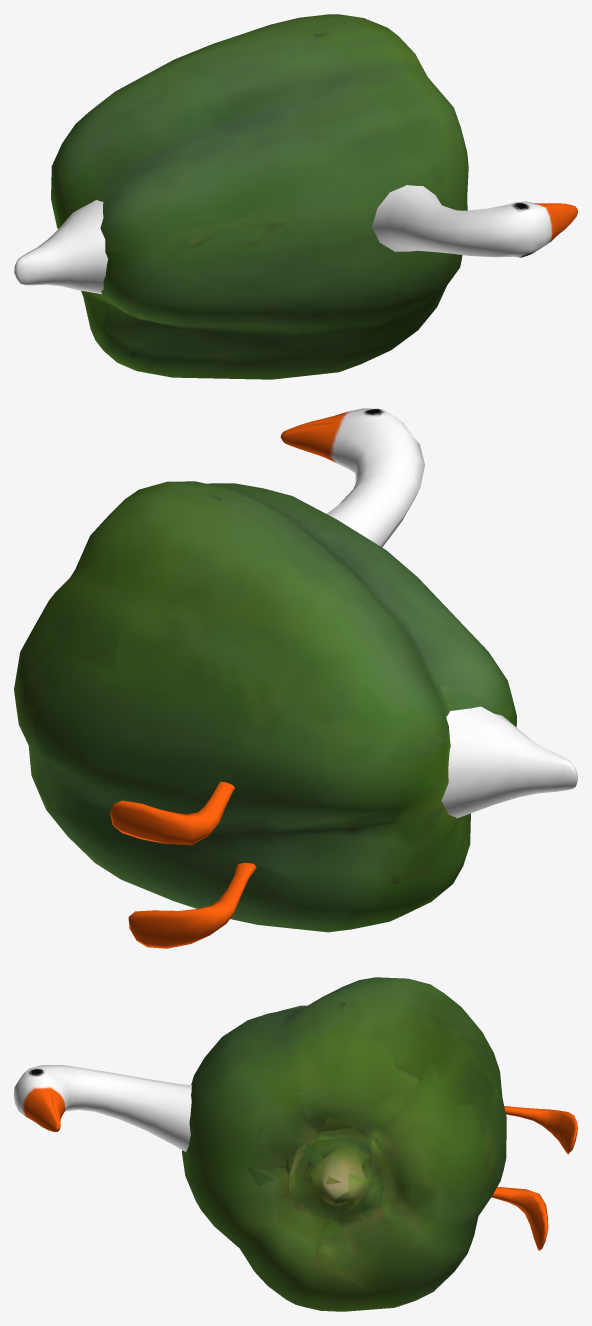
Rendered from ref_goose_greenpepper.glb.
3 renders of one model, top to bottom at view 1: azimuth 30°, elevation 25°; view 2: azimuth 150°, elevation 25°; view 3: azimuth 270°, elevation 25°, orthographic. The views are drawn at different scales.
Visible parts, largest first — view 1: ref_goose_greenpepper_part0, ref_goose_greenpepper_part1; view 2: ref_goose_greenpepper_part0, ref_goose_greenpepper_part1; view 3: ref_goose_greenpepper_part0, ref_goose_greenpepper_part1.
Boxes of the visible parts, left/top/right/bottom form: ref_goose_greenpepper_part0: left=51, top=14, right=468, bottom=379; ref_goose_greenpepper_part1: left=14, top=185, right=577, bottom=294; ref_goose_greenpepper_part0: left=14, top=481, right=516, bottom=932; ref_goose_greenpepper_part1: left=110, top=408, right=577, bottom=948; ref_goose_greenpepper_part0: left=182, top=977, right=506, bottom=1311; ref_goose_greenpepper_part1: left=14, top=1065, right=577, bottom=1250.
Size of the model in its own units: 0.7923 by 0.5859 by 1.
Materials: 2 (2 with a texture image).
